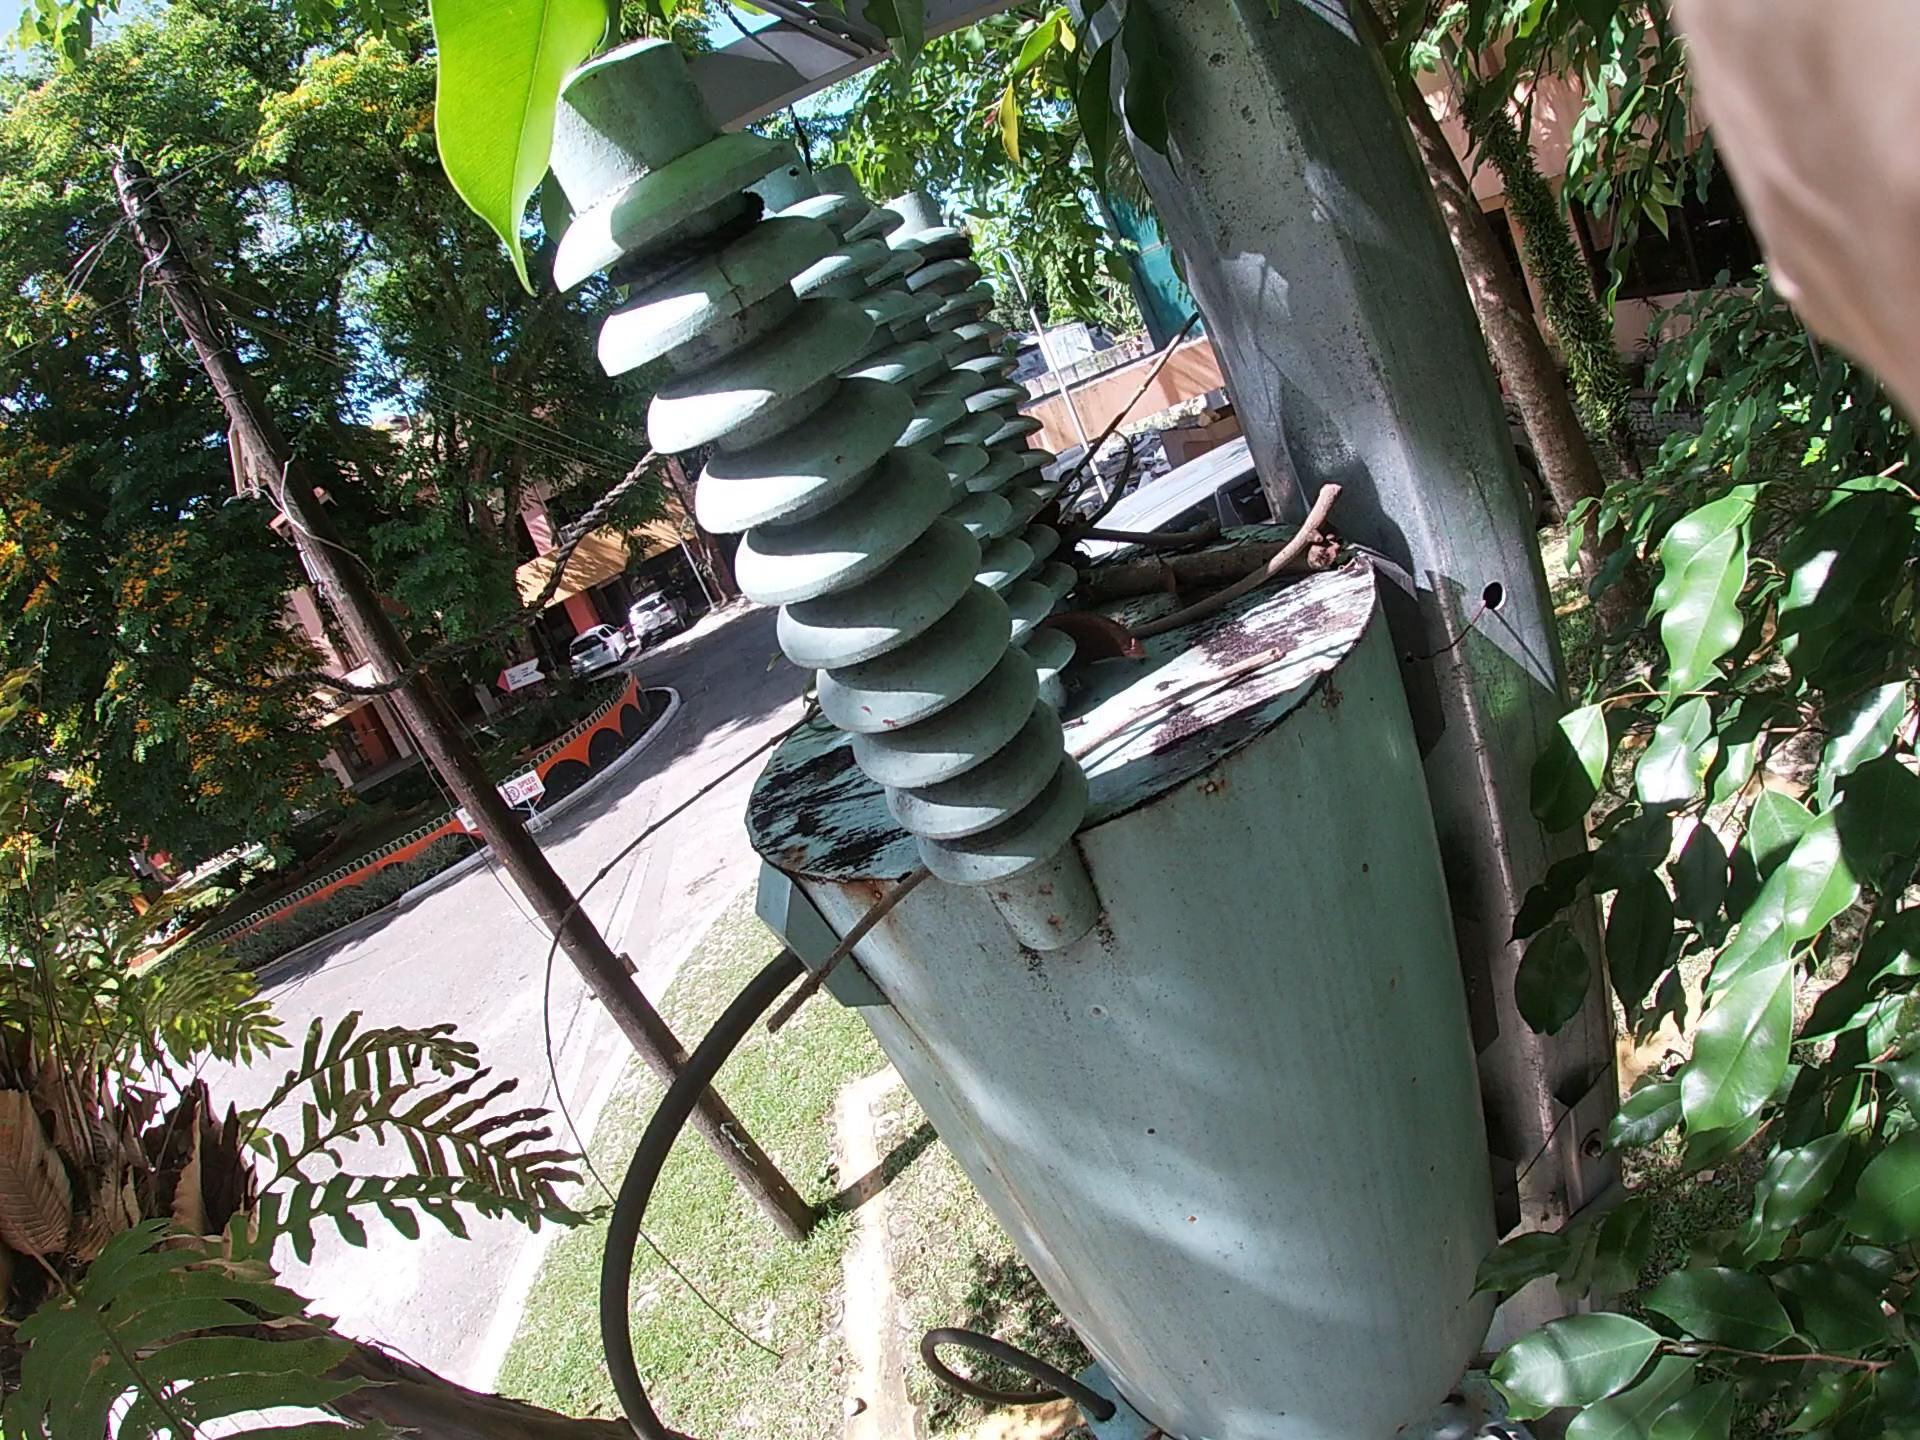branch with leaves: (1005, 513, 1394, 582)
mahogany fruit: (1081, 542, 1082, 545)
tree branch: (514, 601, 1089, 1097), (717, 844, 909, 1147), (1043, 501, 1355, 656), (958, 504, 1246, 570)
